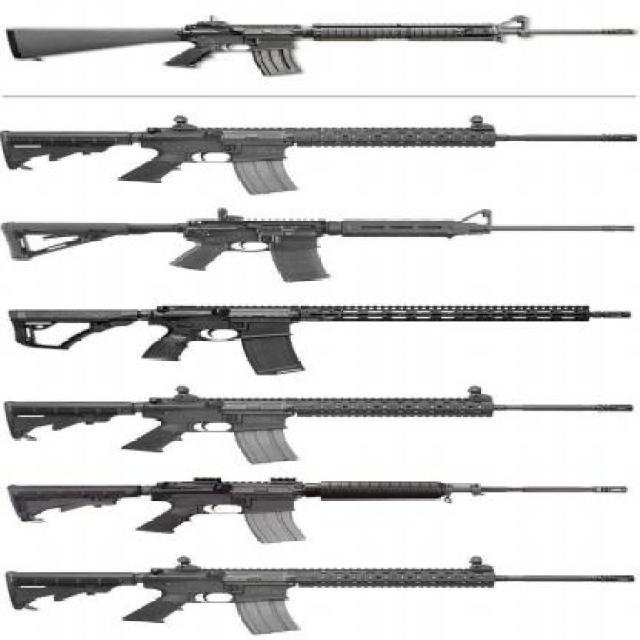weapon: (0, 112, 638, 196), (8, 383, 634, 466), (0, 204, 634, 284), (4, 554, 634, 634), (11, 300, 631, 378), (6, 472, 628, 544), (5, 11, 638, 80)
